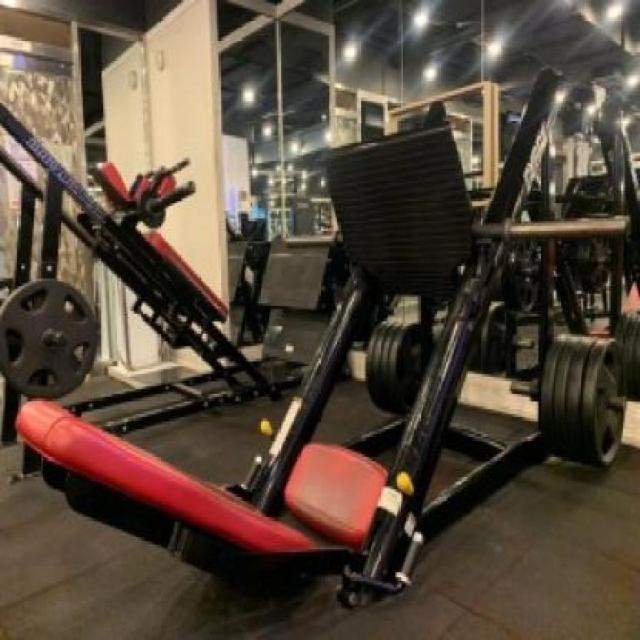leg press: (12, 62, 634, 626)
